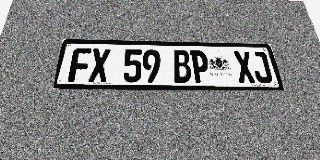5: (123, 49, 142, 82)
9: (142, 49, 161, 82)
B: (172, 50, 192, 83)
F: (68, 48, 92, 82)
J: (250, 52, 274, 83)
P: (190, 50, 211, 83)
X: (88, 48, 110, 82), (233, 51, 256, 83)
